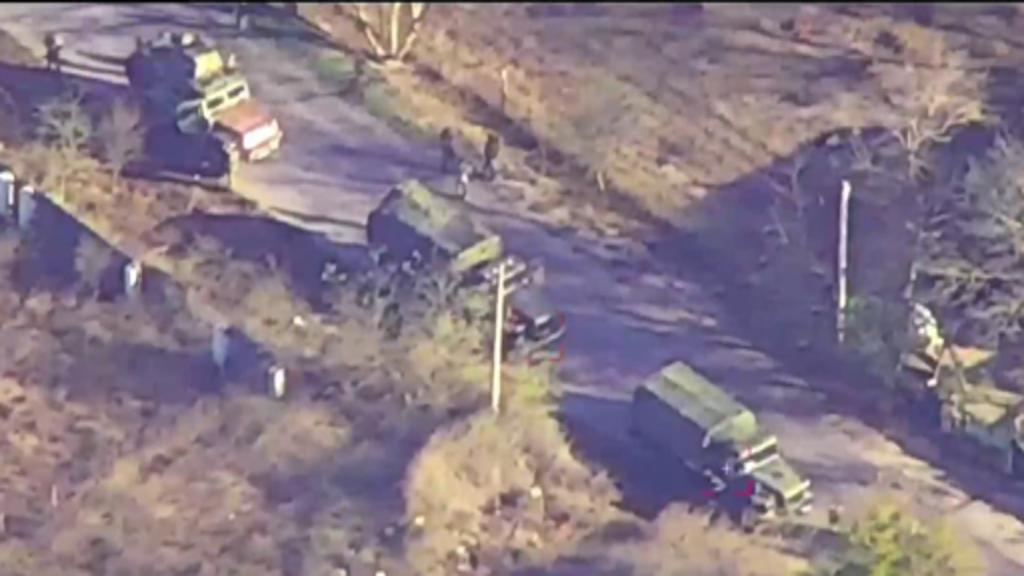CAR: (128, 28, 286, 174)
TRUCK: (360, 177, 568, 361), (626, 359, 814, 528)
